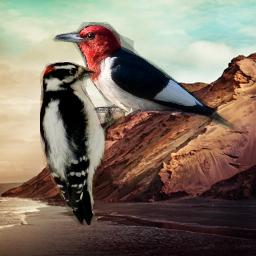Woodpecker: (51, 22, 234, 132), (40, 62, 125, 225)
